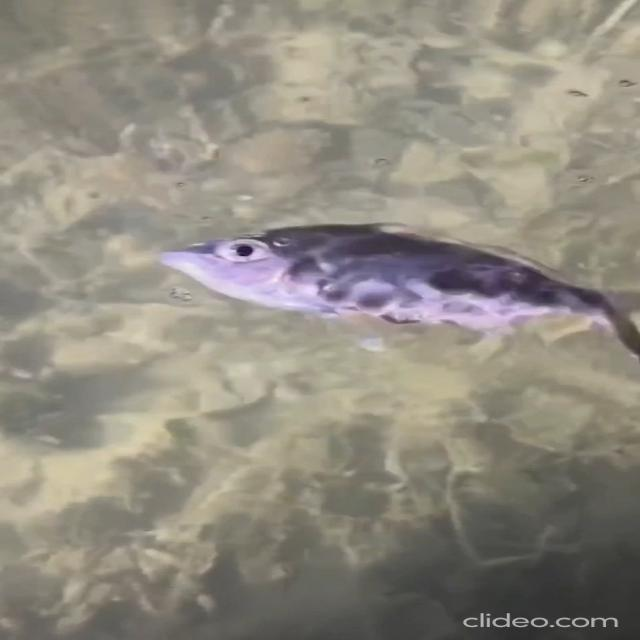fish: (151, 218, 640, 374)
